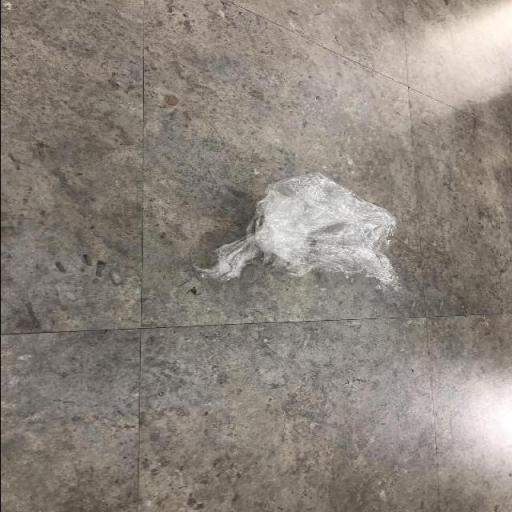plastic-bag: (191, 172, 404, 296)
